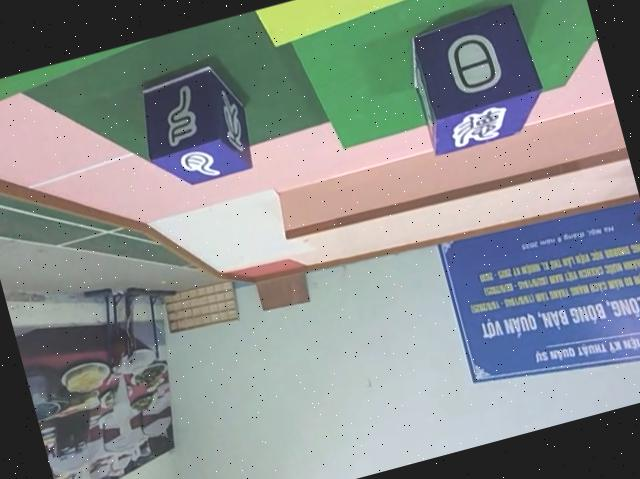R2 Fake Blue: (397, 0, 550, 158), (126, 56, 258, 193)
